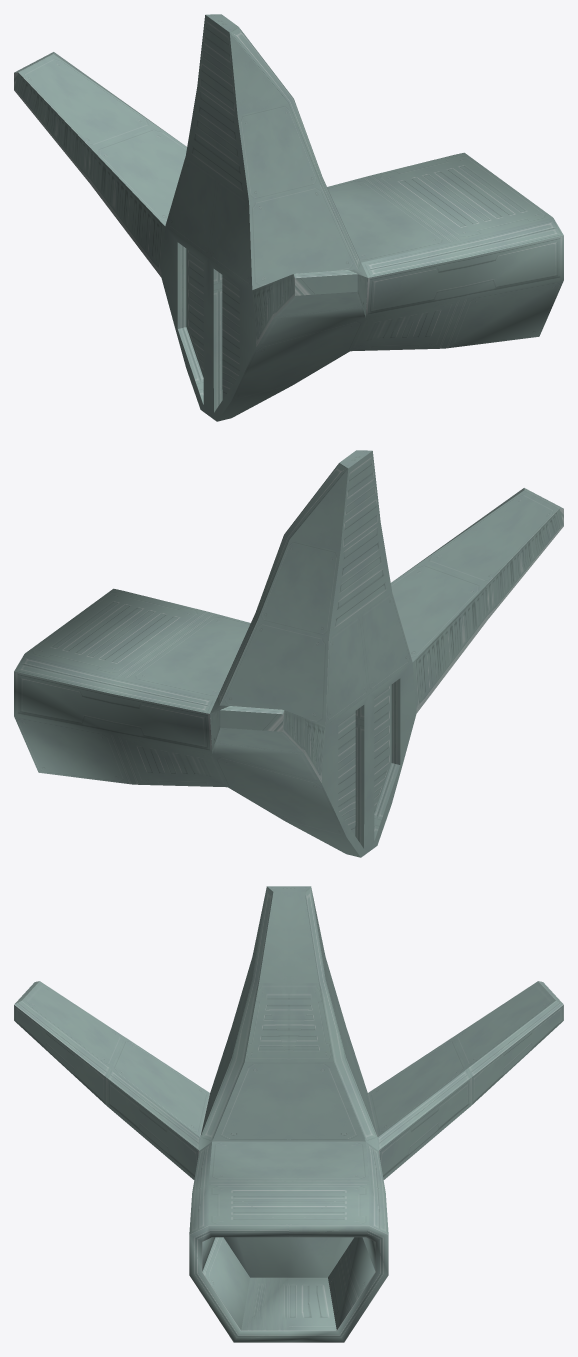
The model's file is SM_A_Ship_Tail.fbx.
3 renders of one model, top to bottom at view 1: azimuth 30°, elevation 25°; view 2: azimuth 150°, elevation 25°; view 3: azimuth 270°, elevation 25°, orthographic. The views are drawn at different scales.
Visible parts, largest first — view 1: tail; view 2: tail; view 3: tail.
Boxes of the visible parts, x1,y1,x2,y2 form: tail: (14,14,563,421); tail: (14,450,563,857); tail: (14,886,563,1342).
Bounding box in the file's own units: 1175 × 1236 × 1745.
